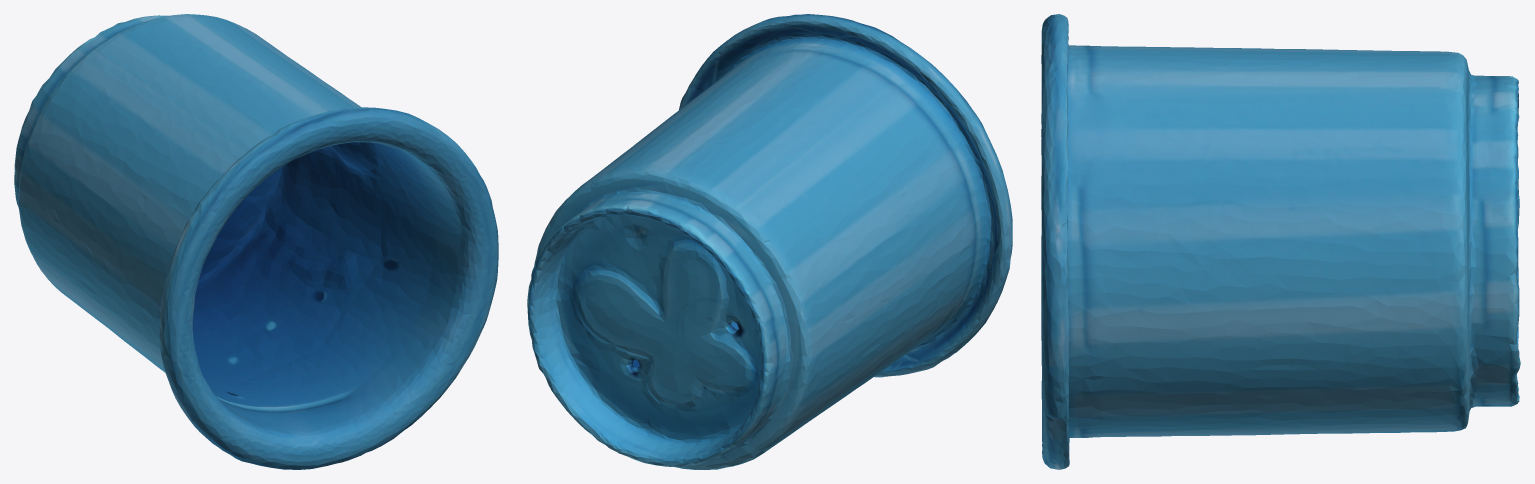
Rendered from b_cups.glb.
3 views of the same model, side by side, from view 1: azimuth 30°, elevation 25°; view 2: azimuth 150°, elevation 25°; view 3: azimuth 270°, elevation 25° (orthographic). The views are drawn at different scales.
Parts seen in each view (by area): view 1: textured.obj; view 2: textured.obj; view 3: textured.obj.
Boxes of the visible parts, <box> form: textured.obj: <box>14,14,498,469</box>; textured.obj: <box>527,14,1012,469</box>; textured.obj: <box>1041,14,1520,469</box>.
Size of the model in its own units: 0.0605 by 0.0606 by 0.0638.
Materials: 1 (1 with a texture image).
